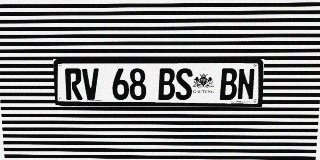6: (112, 68, 129, 100)
8: (129, 68, 146, 100)
B: (158, 68, 175, 100), (220, 68, 237, 100)
N: (237, 68, 255, 100)
R: (65, 68, 82, 100)
S: (175, 68, 193, 100)
V: (82, 68, 99, 100)
